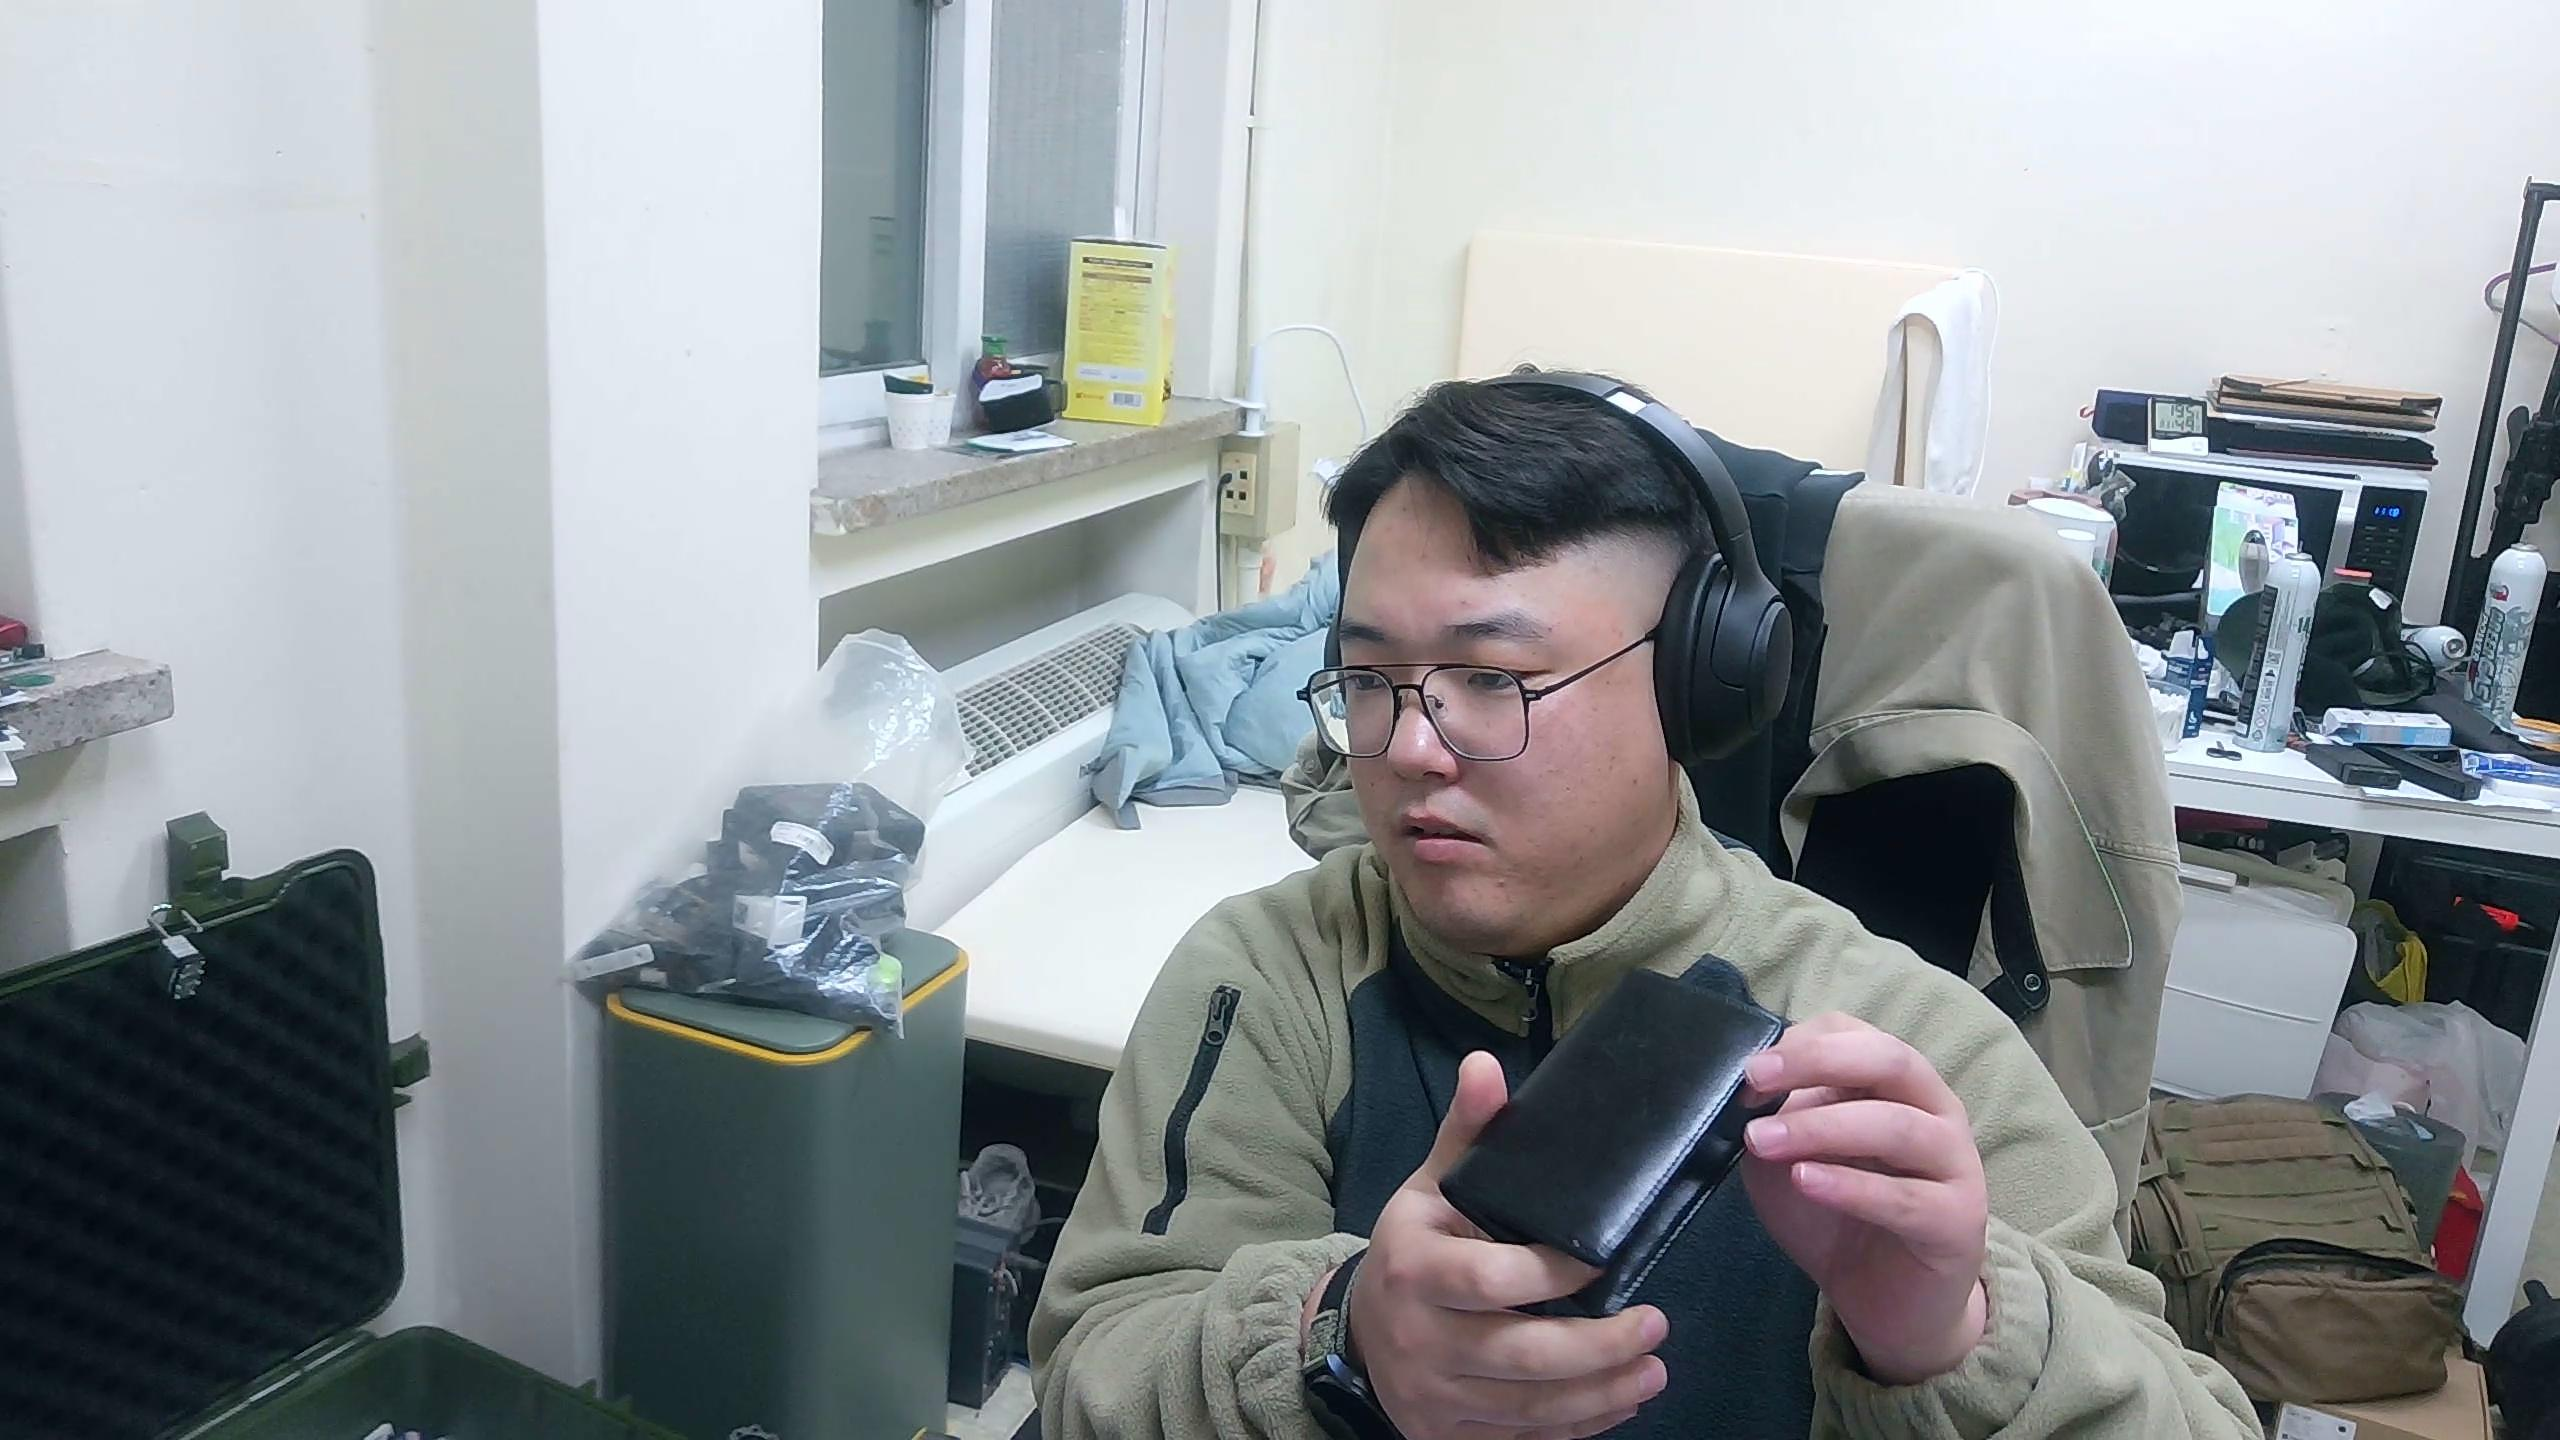earphone: (1438, 951, 1795, 1322)
